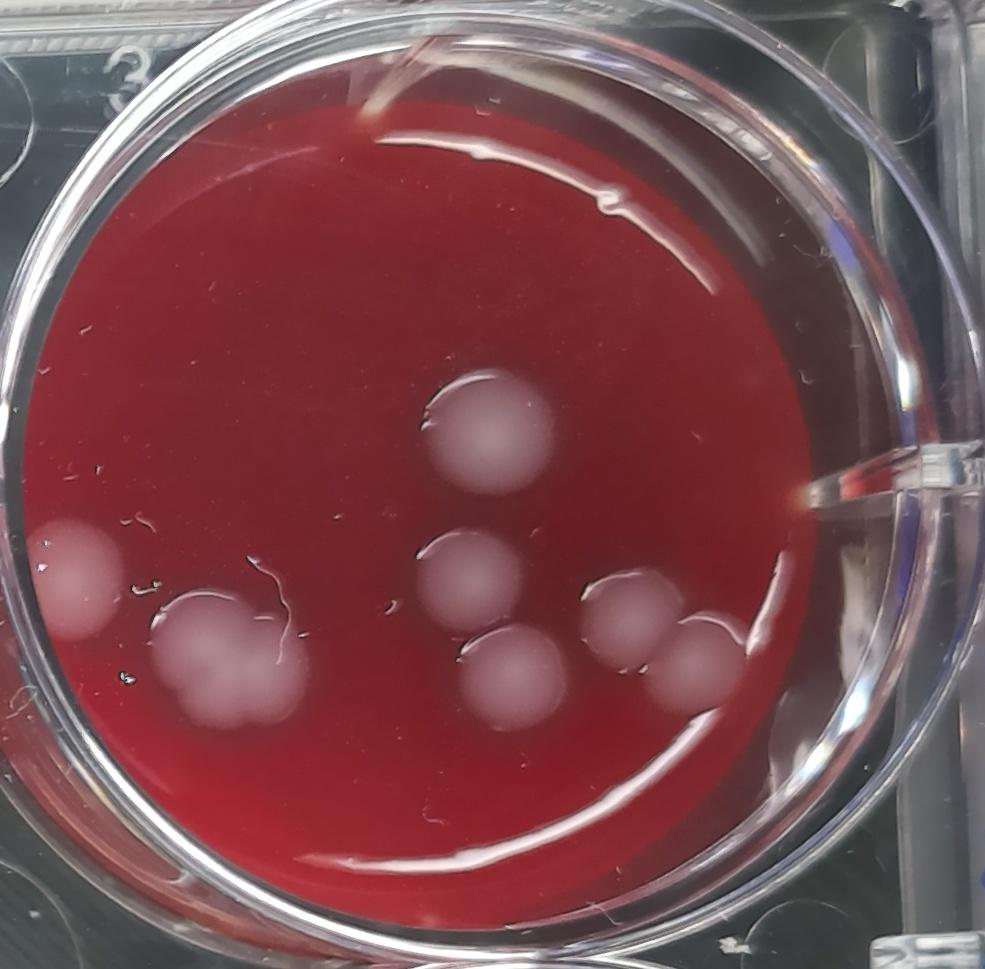pddamselae: (140, 571, 313, 741), (401, 350, 565, 514), (9, 514, 126, 652), (456, 621, 577, 743), (568, 558, 690, 677), (406, 526, 523, 643), (643, 598, 750, 720)
